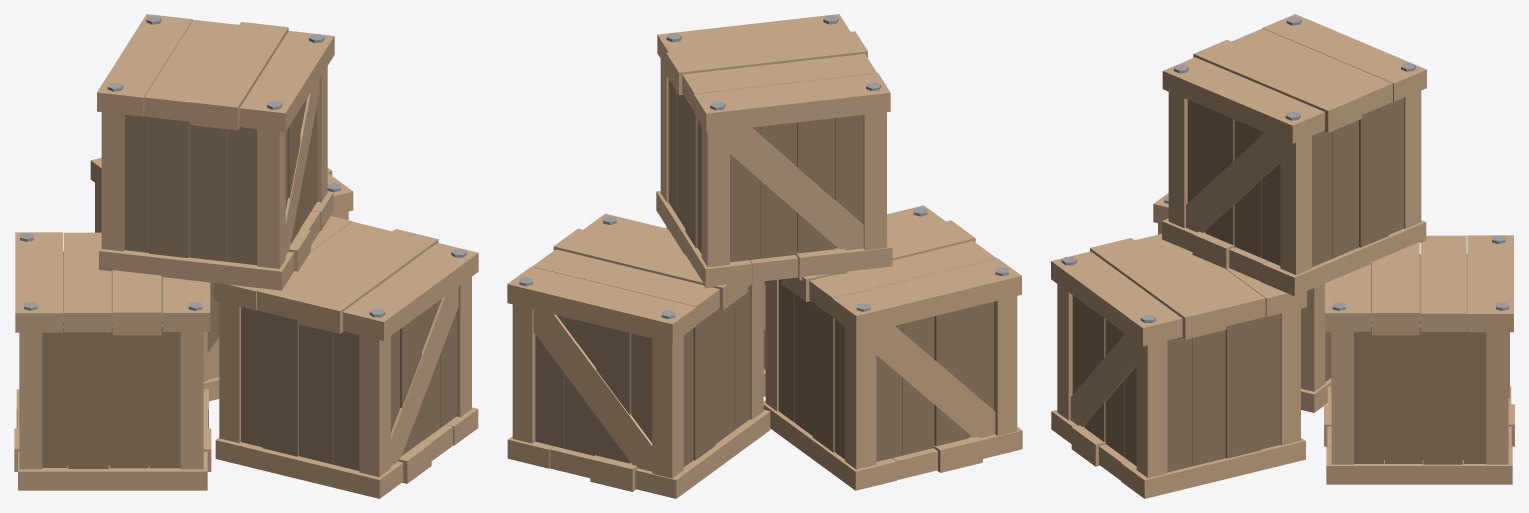
File: crates.fbx
3 renders of one model, left to right at view 1: azimuth 30°, elevation 25°; view 2: azimuth 150°, elevation 25°; view 3: azimuth 270°, elevation 25°, orthographic. The views are drawn at different scales.
Parts seen in each view (by area): view 1: pCube15, pCube13, pCube14, pCube12; view 2: pCube12, pCube13, pCube14; view 3: pCube13, pCube15, pCube12, pCube14.
Boxes of the visible parts, x1,y1,x2,y2 form: pCube15: (214,216,478,498); pCube13: (97,14,334,290); pCube14: (14,232,211,490); pCube12: (90,157,353,401); pCube12: (507,213,770,498); pCube13: (656,14,892,288); pCube14: (763,205,1022,490); pCube13: (1162,14,1426,296); pCube15: (1051,233,1306,498); pCube12: (1324,235,1514,484); pCube14: (1153,193,1331,412).
Bounding box in the file's own units: 500 × 416 × 506.
